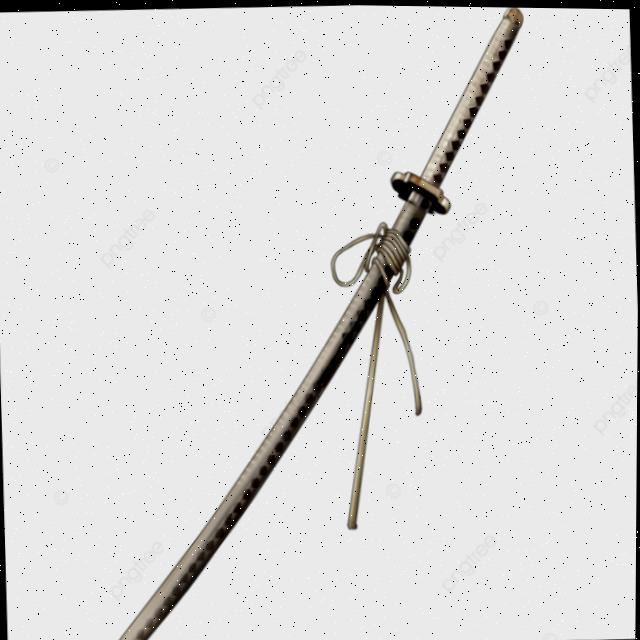knife: (81, 1, 547, 640)
